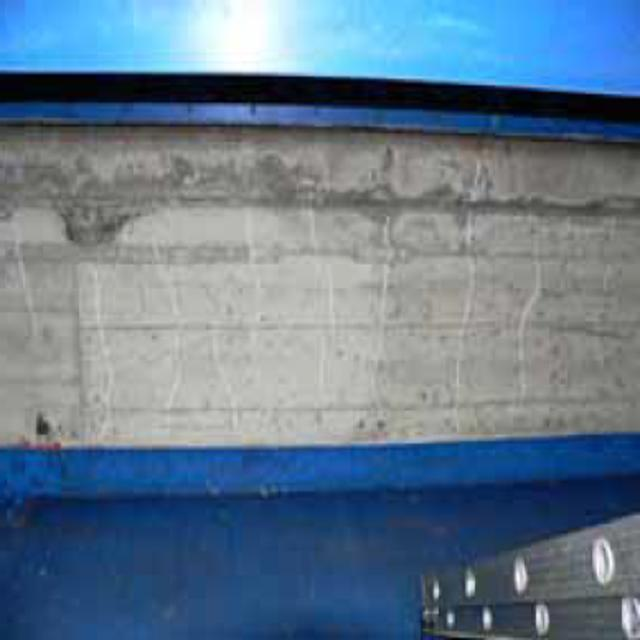crack: (21, 230, 600, 416)
